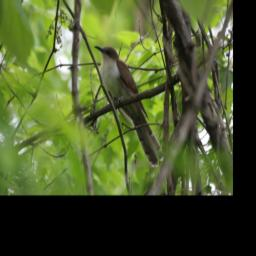Cuckoo: (93, 43, 164, 168)
